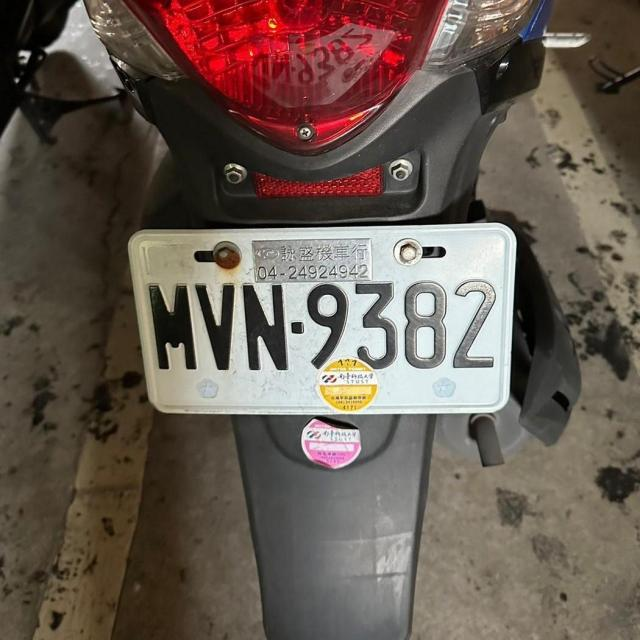W: (124, 217, 526, 426)
